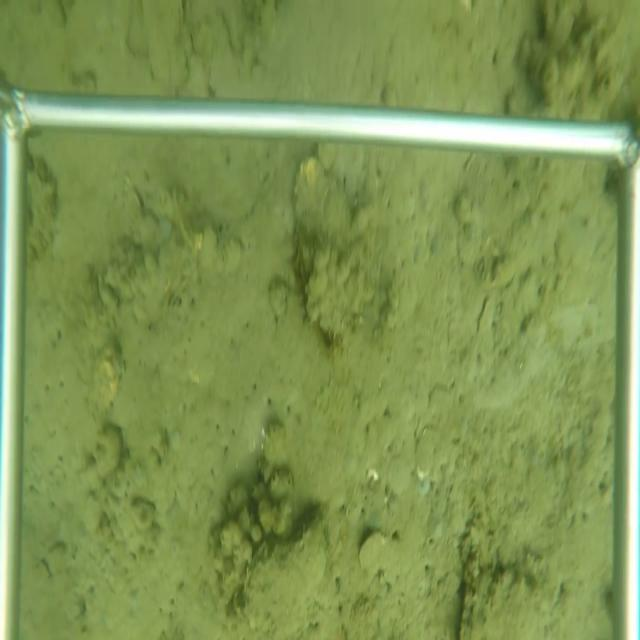Oyster-Closed: (288, 146, 381, 348)
Oyster-Indeterminate: (242, 505, 330, 638), (454, 561, 548, 638), (355, 528, 388, 574)
